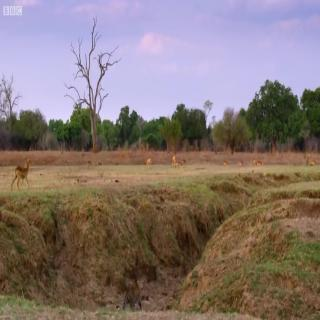Leopard: (122, 279, 144, 314)
